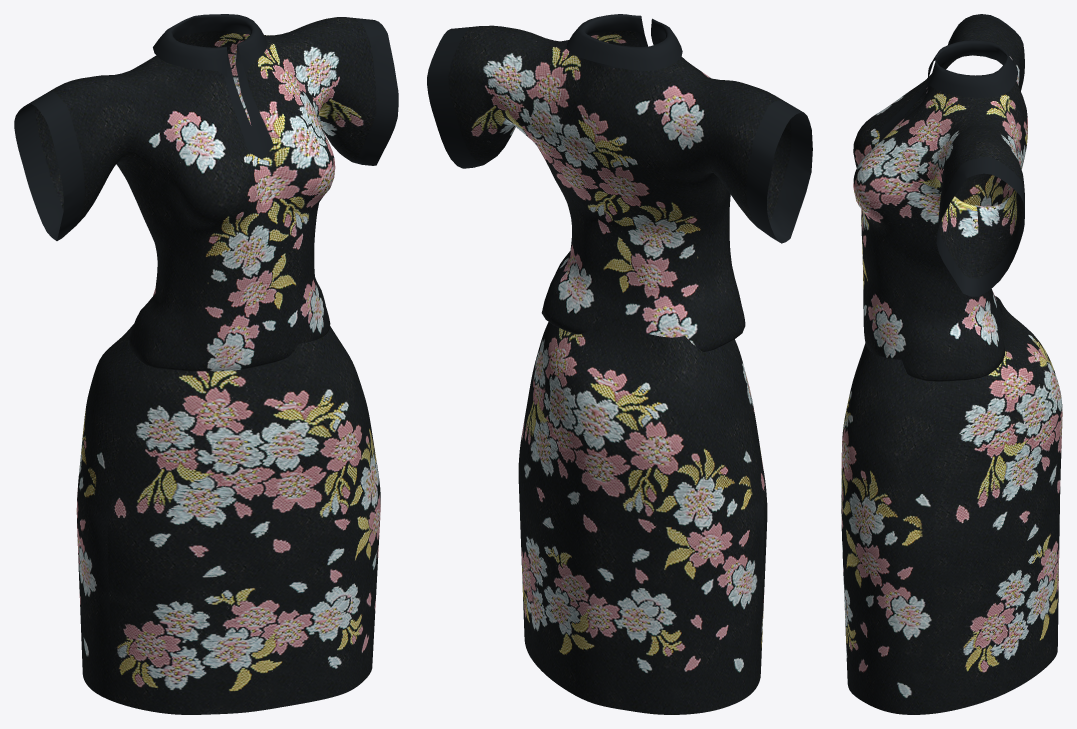
The picture shows the model from 3 angles, left to right: view 1: azimuth 30°, elevation 25°; view 2: azimuth 150°, elevation 25°; view 3: azimuth 270°, elevation 25°; orthographic projection. The views are drawn at different scales.
Parts seen in each view (by area): view 1: Cylinder003_01 - Defaultn_0, FEMALE003_07 - Default_0; view 2: Cylinder003_01 - Defaultn_0, FEMALE003_07 - Default_0; view 3: Cylinder003_01 - Defaultn_0, FEMALE003_07 - Default_0.
Boxes of the visible parts, x1,y1,x2,y2 form: Cylinder003_01 - Defaultn_0: [76, 320, 380, 714]; FEMALE003_07 - Default_0: [14, 14, 398, 371]; Cylinder003_01 - Defaultn_0: [518, 320, 767, 714]; FEMALE003_07 - Default_0: [427, 14, 812, 351]; Cylinder003_01 - Defaultn_0: [841, 296, 1062, 714]; FEMALE003_07 - Default_0: [853, 14, 1027, 381].
Bounding box in the file's own units: 102 × 179 × 59.68.
2 materials, 2 textured.
